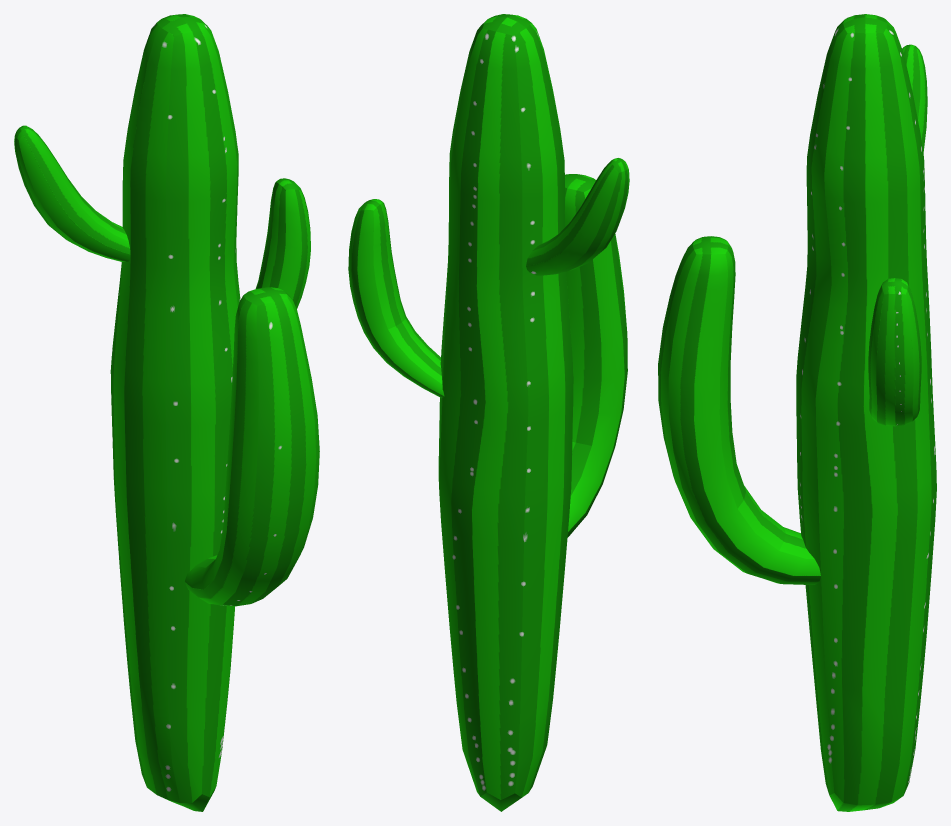
File: cactus.fbx
3 views of the same model, side by side, from view 1: azimuth 30°, elevation 25°; view 2: azimuth 150°, elevation 25°; view 3: azimuth 270°, elevation 25° (orthographic).
Visible parts, largest first — view 1: Cactus; view 2: Cactus; view 3: Cactus.
Part boxes in pixels (x1=…): Cactus: x1=14, y1=14, x2=319, y2=811; Cactus: x1=348, y1=14, x2=629, y2=811; Cactus: x1=658, y1=14, x2=936, y2=811.
Bounding box in the file's own units: 67.25 × 178 × 56.95.
Materials: 1 (1 with a texture image).
